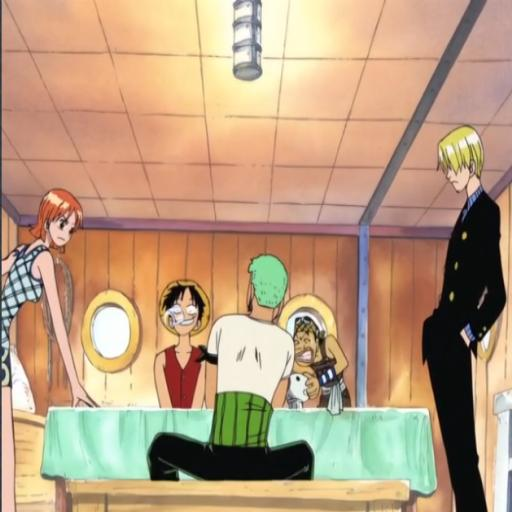Luffy: (140, 259, 221, 423)
Nami: (0, 180, 94, 465)
Zoro: (197, 252, 321, 491)
sanji: (405, 125, 512, 512)
